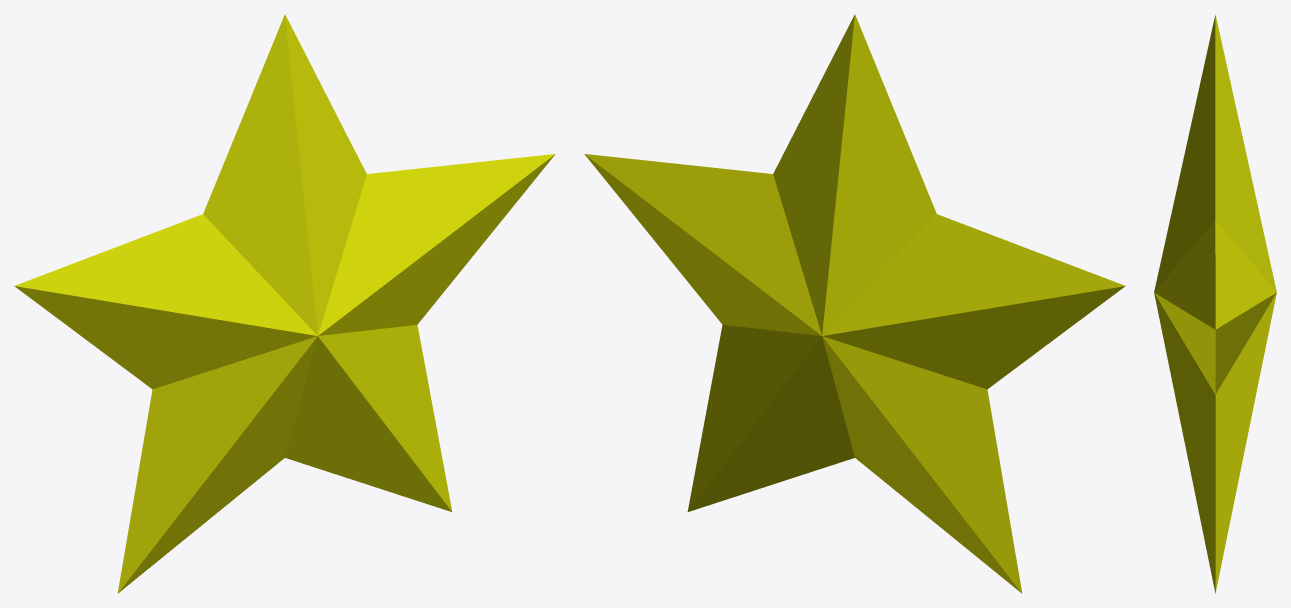
Rendered from Star.fbx.
The picture shows the model from 3 angles, left to right: view 1: azimuth 30°, elevation 25°; view 2: azimuth 150°, elevation 25°; view 3: azimuth 270°, elevation 25°; orthographic projection. The views are drawn at different scales.
Visible parts, largest first — view 1: Circle; view 2: Circle; view 3: Circle.
Boxes of the visible parts, bbox=[...] form: Circle: bbox=[14, 14, 555, 593]; Circle: bbox=[584, 14, 1125, 593]; Circle: bbox=[1154, 14, 1276, 593].
Bounding box in the file's own units: 190 × 40 × 181.
